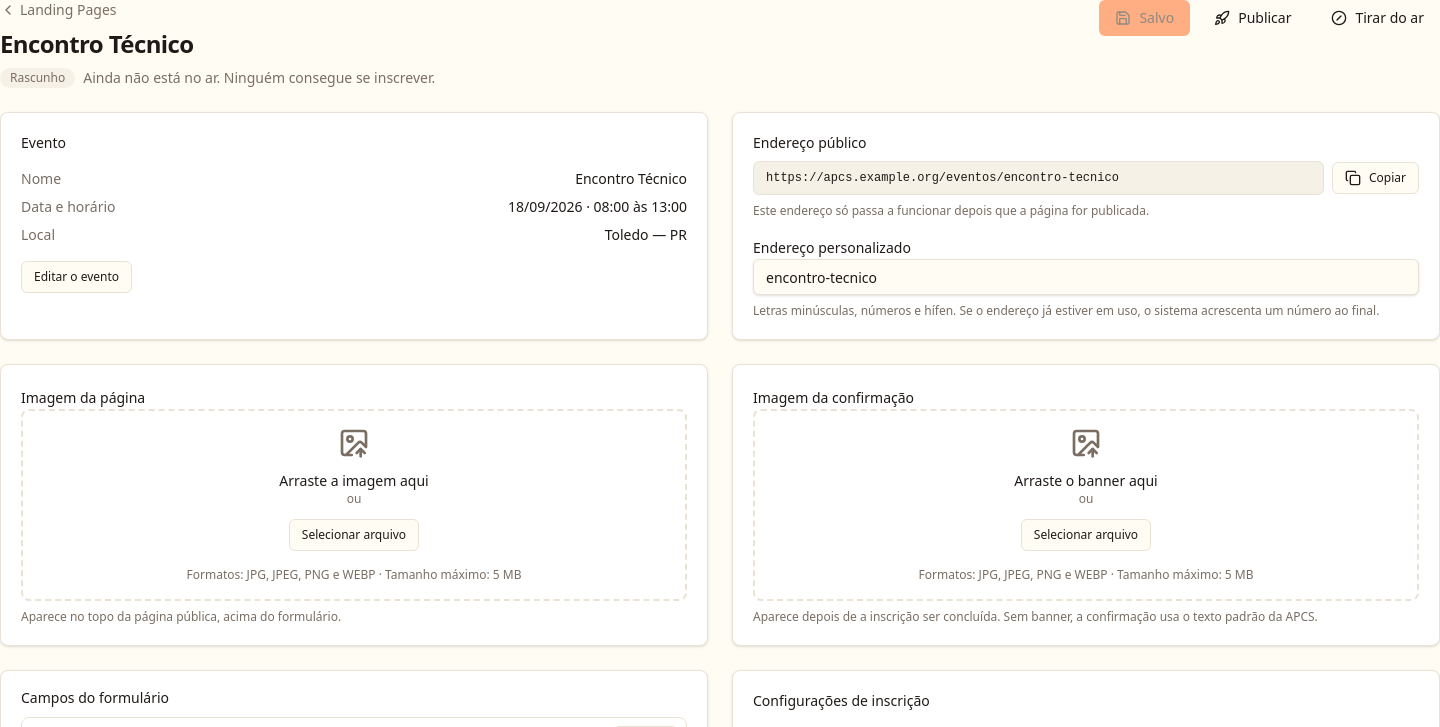
o endereço é normalizado enquanto se digita (§6) › acento, espaço e maiúscula não chegam ao campo
Clear the field labelled "Endereço personalizado": (1086, 277) [753,259,1419,295]
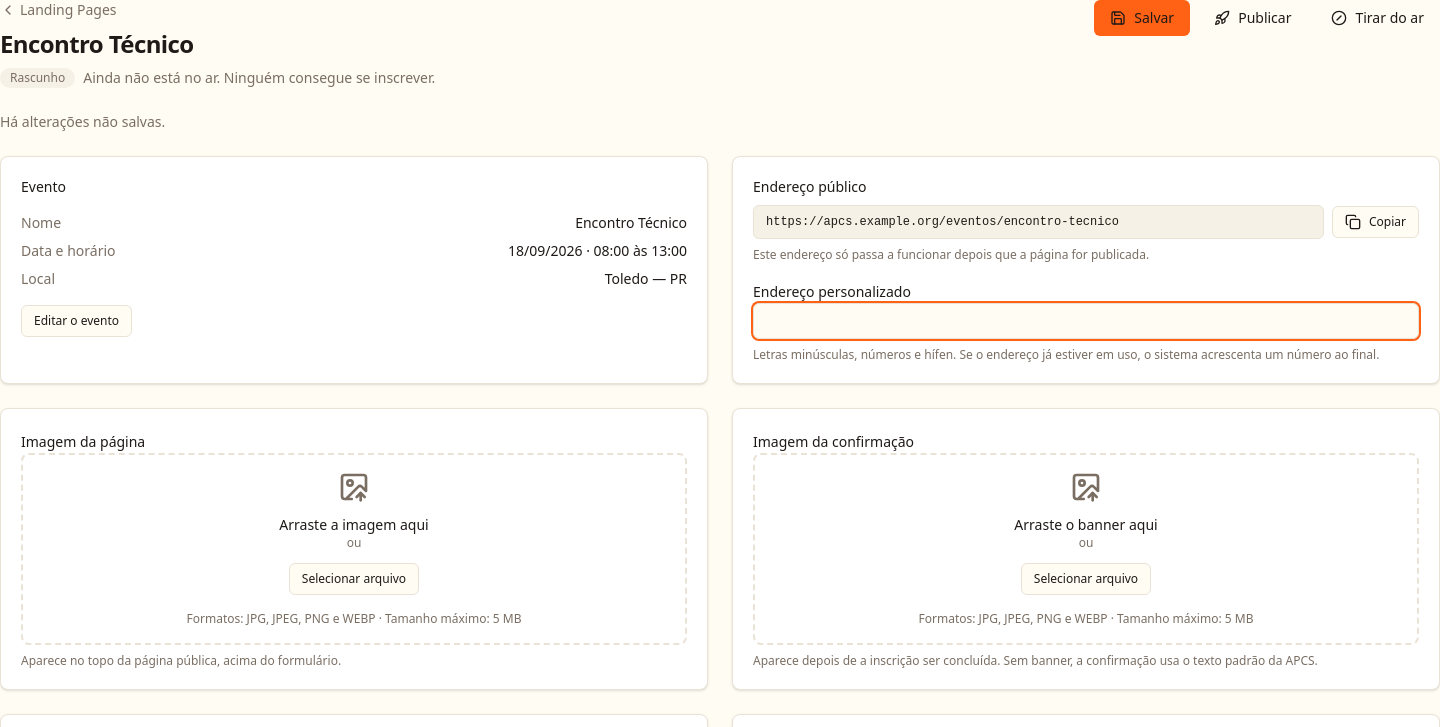
In the field labelled "Endereço personalizado": (1086, 321) [753,303,1419,339], type "Encontro Técnico"
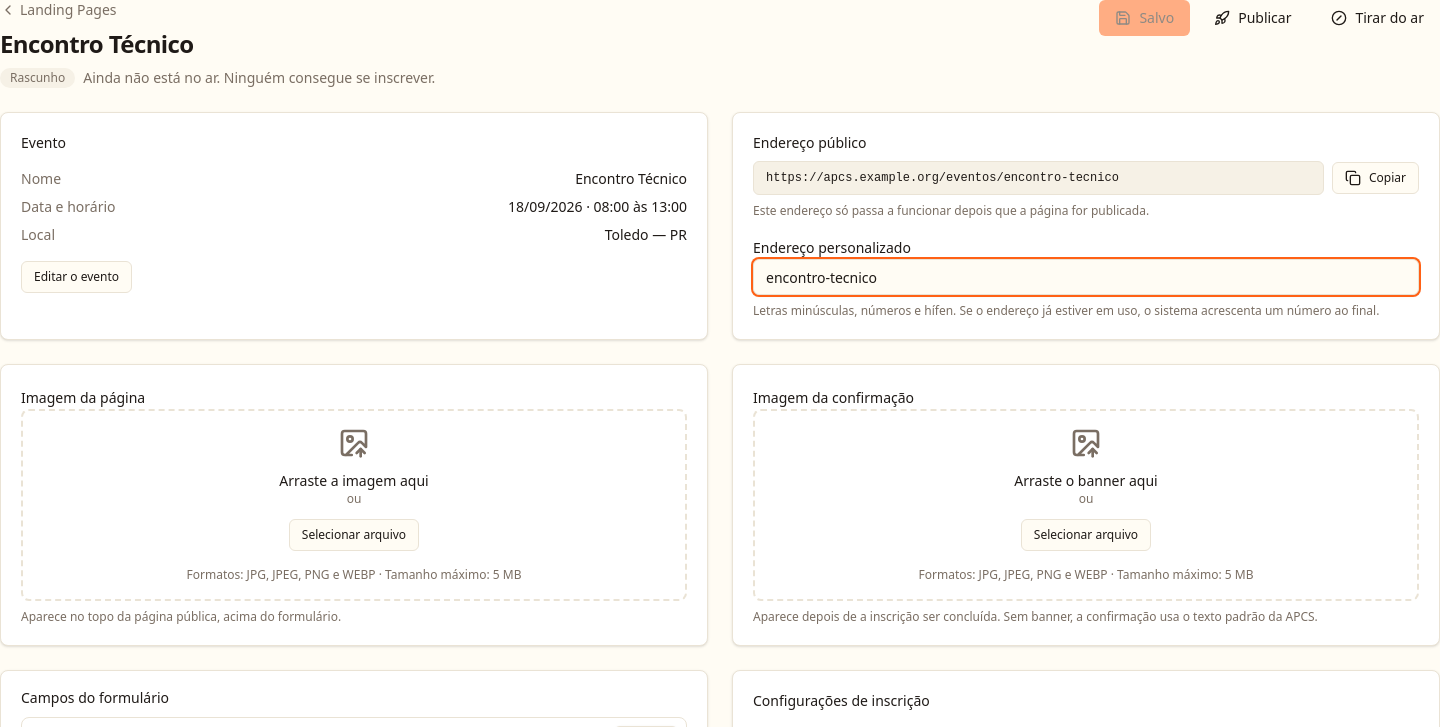
Expected: the field labelled "Endereço personalizado" holds "encontro-tecnico", [753,259,1419,295]
